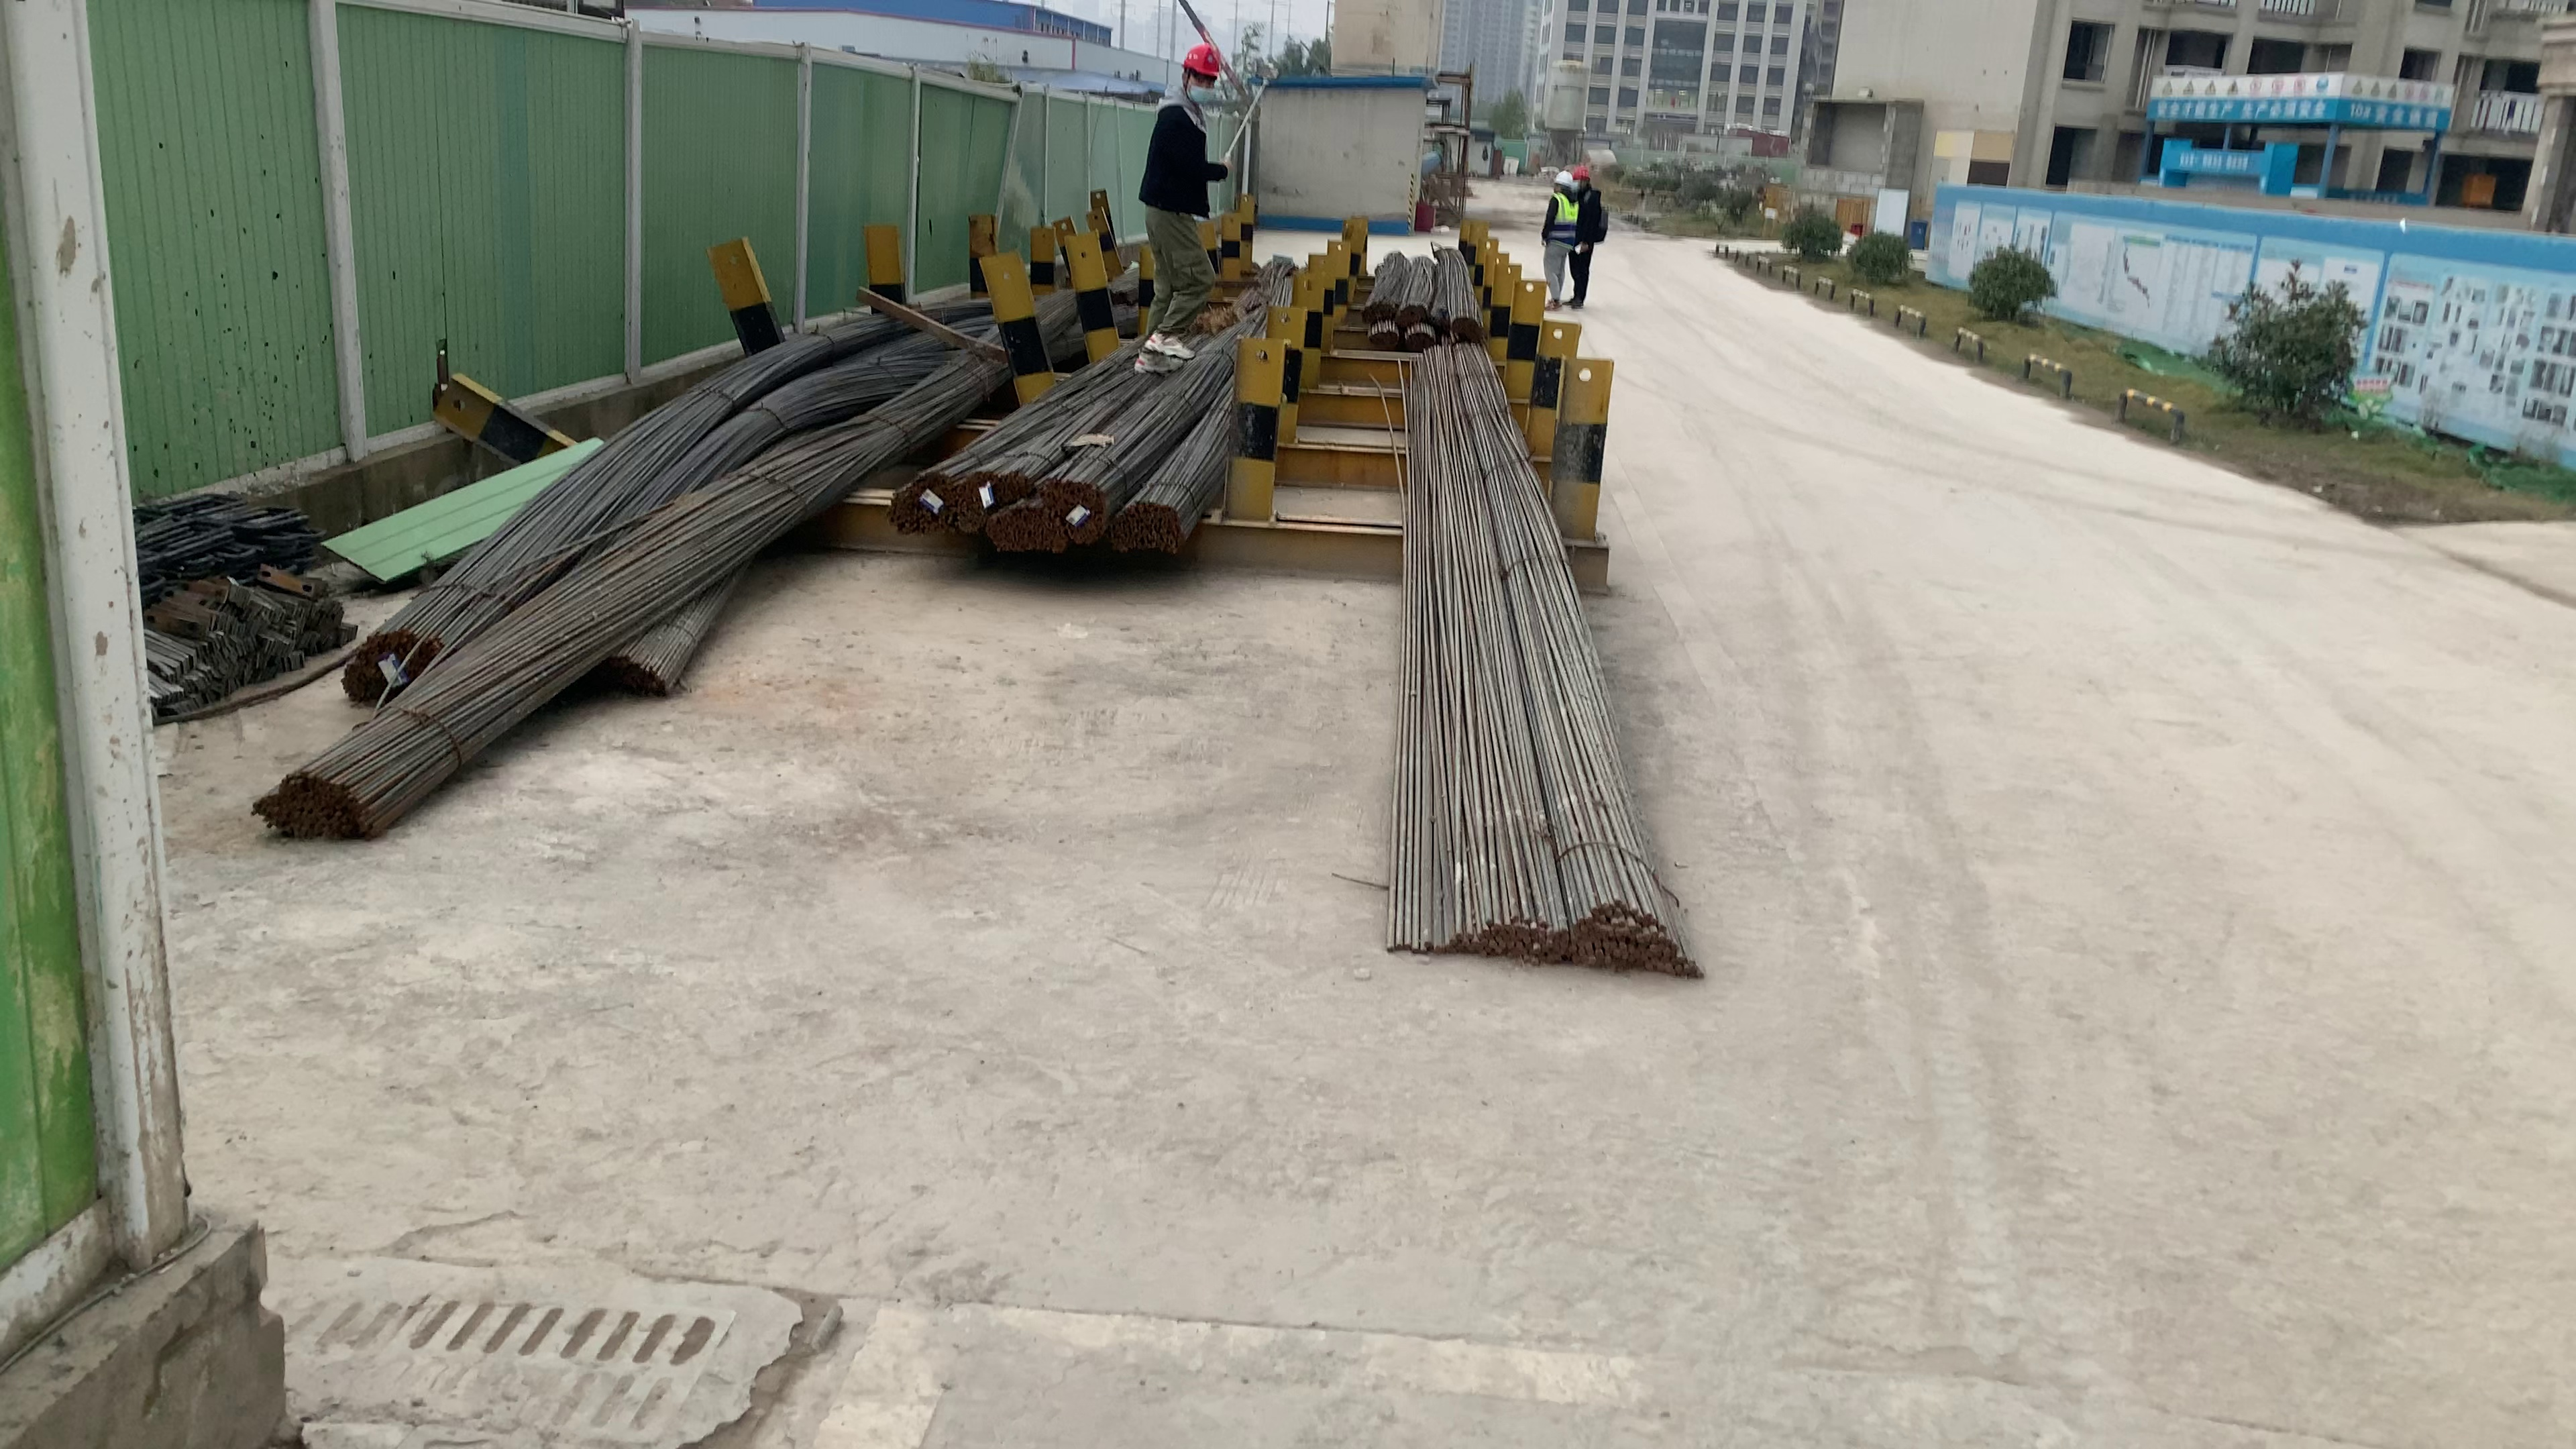rebar: (1392, 902, 1704, 980), (249, 770, 377, 844), (347, 628, 435, 692), (594, 644, 674, 699), (959, 469, 1037, 524), (886, 472, 955, 527), (1053, 471, 1106, 540), (985, 508, 1060, 552), (1123, 499, 1182, 554), (1361, 322, 1398, 341), (1454, 306, 1477, 336), (1368, 297, 1398, 318), (1405, 329, 1435, 345), (1403, 299, 1426, 318)
